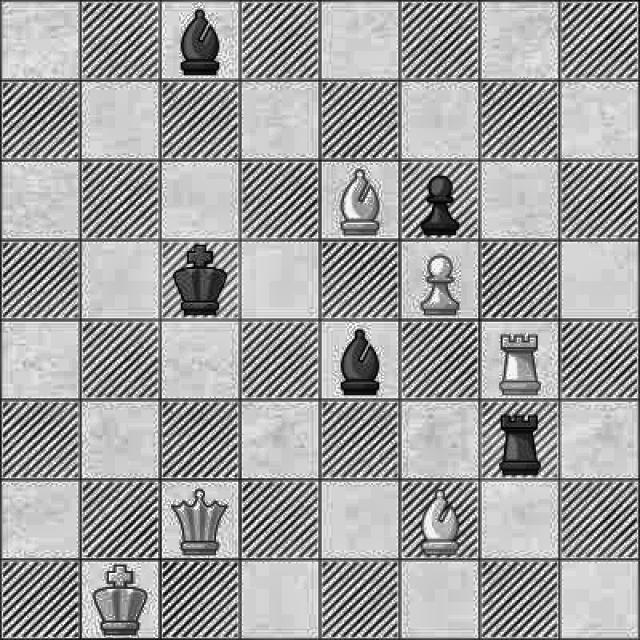black bishop: (162, 3, 237, 80), (319, 322, 396, 393)
black king: (168, 242, 235, 316)
black pawn: (413, 161, 469, 234)
black rook: (483, 404, 558, 480)
white bishop: (320, 161, 405, 240), (406, 478, 477, 560)
white king: (84, 562, 156, 637)
white pawn: (408, 247, 474, 318)
white queen: (160, 485, 237, 558)
white rook: (481, 324, 551, 395)
